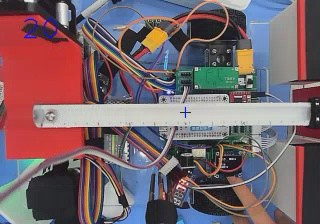ironball: (45, 110, 55, 120)
